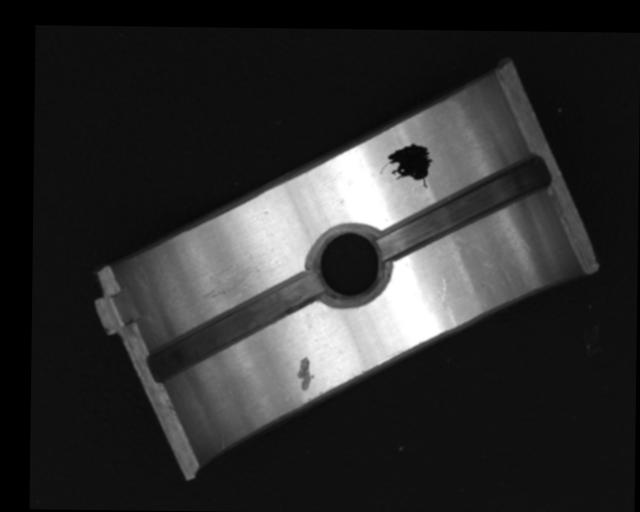blot: (380, 142, 434, 189)
bruise: (295, 354, 315, 392)
gap: (152, 270, 318, 380), (378, 152, 548, 255)
hole: (307, 222, 390, 304)
nick: (434, 277, 458, 327)
scratch: (193, 255, 267, 303)
